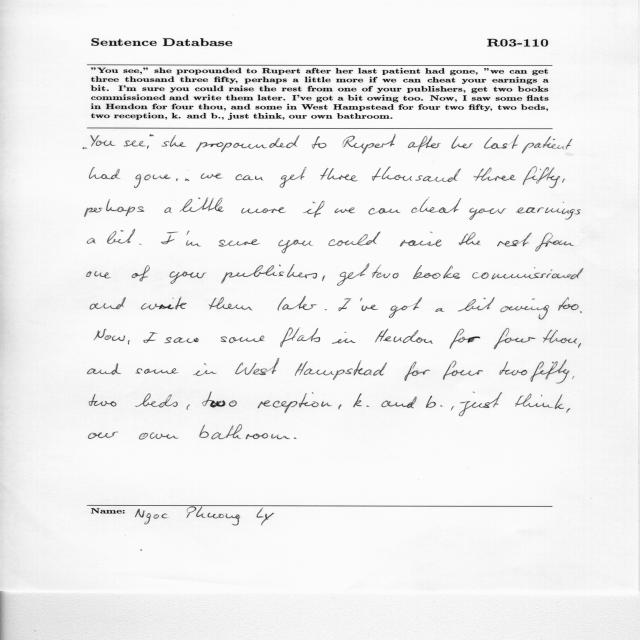word: (295, 360, 387, 380), (221, 264, 317, 283), (196, 135, 300, 152), (258, 392, 332, 413), (199, 425, 290, 440), (472, 267, 584, 279), (372, 167, 461, 182), (515, 202, 581, 220), (85, 199, 144, 217), (343, 134, 396, 154), (459, 392, 502, 416), (500, 299, 549, 320), (531, 360, 570, 384), (494, 328, 536, 349), (375, 329, 433, 344), (522, 137, 573, 154), (443, 360, 483, 380), (523, 167, 560, 188), (280, 328, 320, 347), (412, 198, 462, 213), (236, 358, 280, 375), (535, 233, 574, 252), (516, 394, 565, 409), (329, 232, 381, 246), (337, 264, 369, 286), (389, 297, 422, 318), (413, 265, 460, 279), (180, 198, 224, 212), (400, 232, 441, 247), (135, 394, 178, 408), (450, 329, 480, 349), (141, 297, 187, 310), (278, 296, 317, 311), (209, 297, 253, 310), (280, 167, 307, 188), (474, 168, 516, 181), (408, 136, 441, 152), (202, 392, 237, 407), (404, 361, 430, 381), (458, 297, 495, 311), (134, 174, 170, 188), (484, 135, 519, 149), (497, 233, 532, 247), (320, 168, 357, 181), (170, 271, 207, 284), (543, 330, 577, 344), (90, 297, 126, 310), (279, 240, 314, 253), (470, 208, 507, 220), (107, 229, 135, 244), (88, 363, 122, 375), (381, 397, 417, 408), (499, 362, 527, 376), (372, 265, 399, 279), (90, 167, 121, 179), (94, 329, 125, 341), (303, 201, 324, 218), (219, 239, 261, 247), (89, 394, 117, 406), (193, 363, 217, 376), (221, 336, 265, 343), (131, 266, 150, 282), (558, 297, 579, 311), (332, 332, 356, 344), (459, 233, 481, 246), (452, 136, 473, 149), (139, 433, 178, 440), (241, 207, 286, 213), (136, 368, 179, 374), (360, 298, 379, 311), (187, 231, 202, 247), (83, 135, 100, 149), (124, 140, 149, 149), (369, 208, 401, 215), (353, 394, 369, 408), (164, 337, 199, 343), (161, 232, 178, 244), (426, 396, 443, 408), (89, 432, 118, 439), (236, 174, 264, 181), (312, 136, 327, 149), (170, 135, 186, 147), (86, 272, 111, 279), (339, 298, 352, 311), (144, 332, 158, 343), (201, 173, 222, 179), (335, 207, 355, 213), (96, 140, 115, 146), (87, 238, 96, 244), (164, 207, 172, 213), (162, 141, 169, 147), (435, 308, 445, 312), (338, 405, 342, 410), (566, 408, 570, 413), (322, 276, 325, 282), (187, 404, 190, 410), (185, 178, 190, 181), (578, 343, 581, 348), (451, 406, 454, 411), (562, 179, 565, 183), (149, 134, 154, 136), (128, 340, 130, 345), (572, 376, 575, 379), (176, 178, 178, 181), (294, 437, 297, 439), (139, 243, 141, 245), (325, 309, 327, 311), (580, 311, 582, 313)
